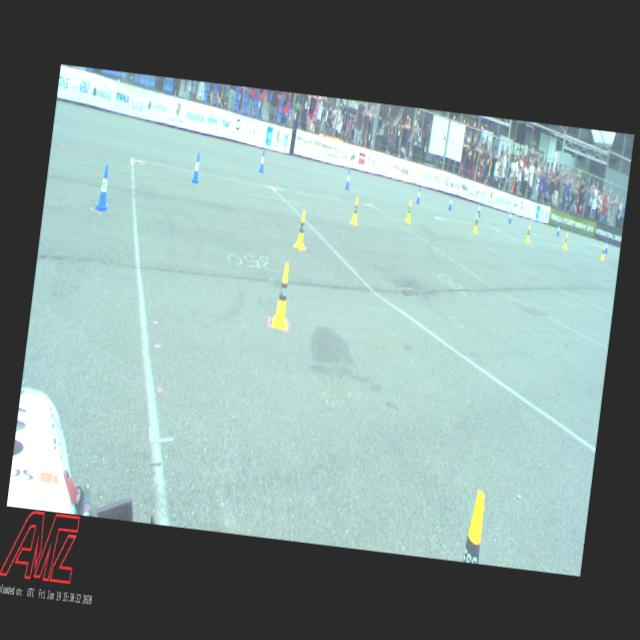blue_cone: (93, 163, 114, 214), (190, 152, 203, 185), (258, 148, 266, 172), (344, 170, 351, 190), (415, 186, 421, 204), (476, 201, 482, 217), (448, 194, 453, 210), (603, 240, 609, 253), (556, 223, 561, 236), (508, 208, 512, 224)
yellow_cone: (462, 488, 488, 562), (270, 262, 294, 329), (294, 209, 310, 250), (349, 196, 361, 227), (404, 199, 413, 223), (472, 213, 479, 233), (524, 224, 531, 242), (562, 233, 568, 250), (600, 245, 606, 261)
